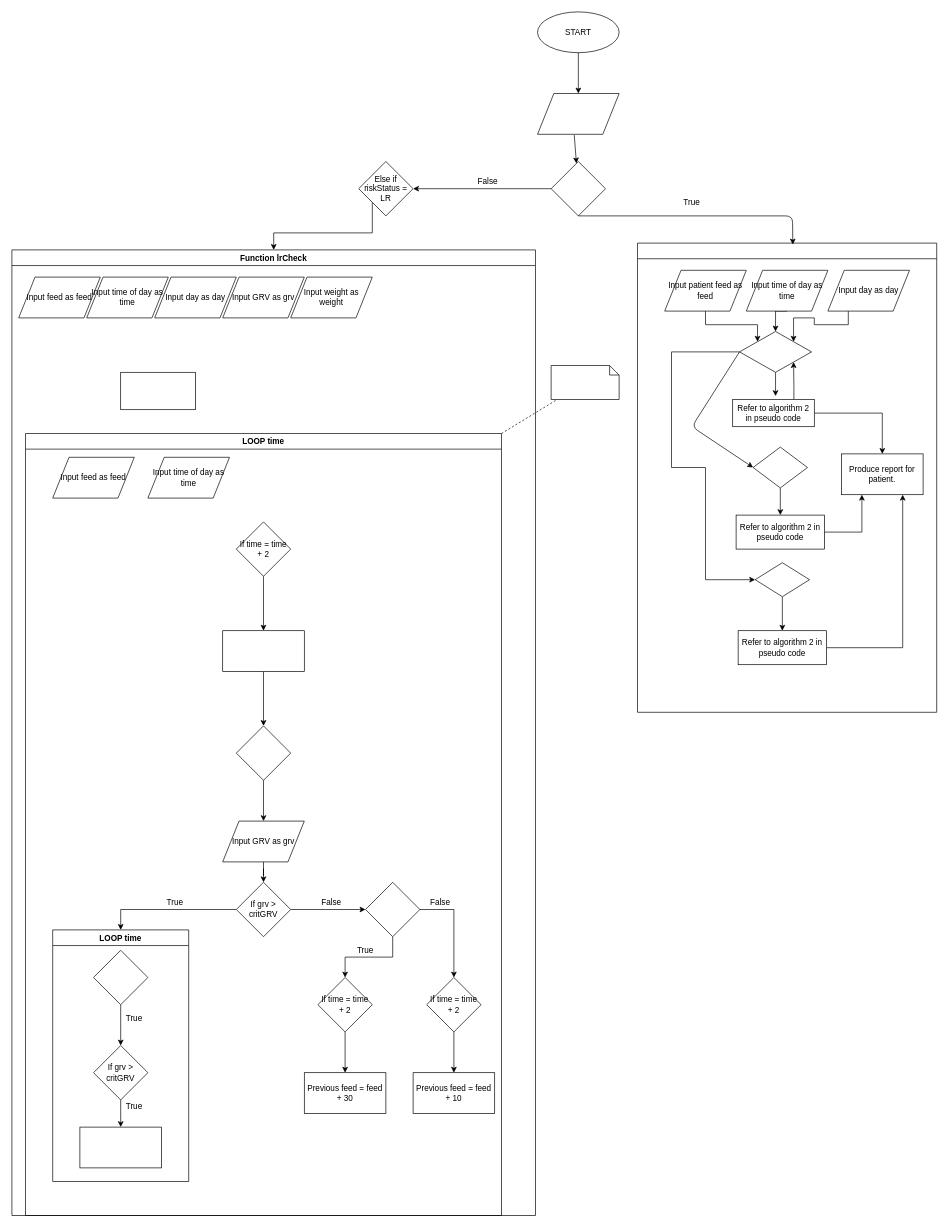
The diagram is 949 pixels wide and 1227 high, and some of its shapes have lost their labels. Here are the shapes that lost their labels. From the top down, the box of each, then its label:
(537, 93, 619, 134): Get patient's risk status as riskStatus
(550, 161, 606, 216): If riskStatus = HR
(739, 331, 812, 372): If day = 1
(120, 372, 196, 410): Calculate critical GRV save as critGRV UPDATE IN PSEUDOCODE
(550, 365, 619, 400): We are looking at the next row for each iteration.
(752, 446, 808, 488): Else if day = 2
(637, 242, 937, 712): Function hrCheck
(754, 562, 810, 597): Else if day = 3
(222, 630, 304, 672): Previous feed = feed + 5
(236, 725, 291, 780): If time = + 4 hours
(365, 882, 420, 937): If weight > 40
(93, 950, 148, 1005): If time = +2 hours
(79, 1126, 162, 1168): Print patient report = "refer to dietician"
